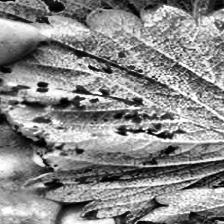Angular Leafspot: (0, 41, 196, 197)
